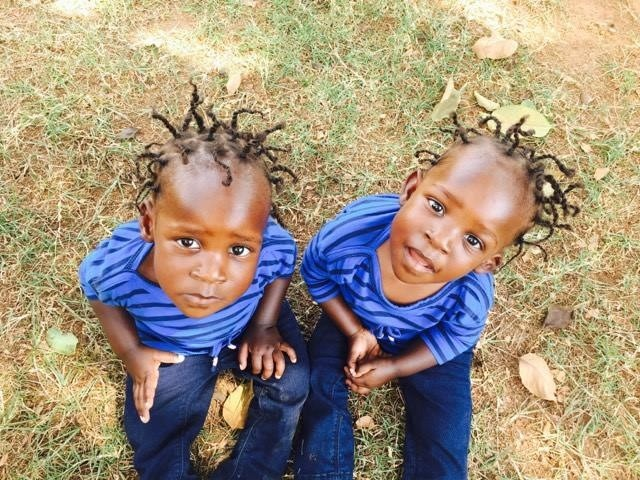face_no_mask: (390, 127, 540, 283), (156, 129, 269, 320)
